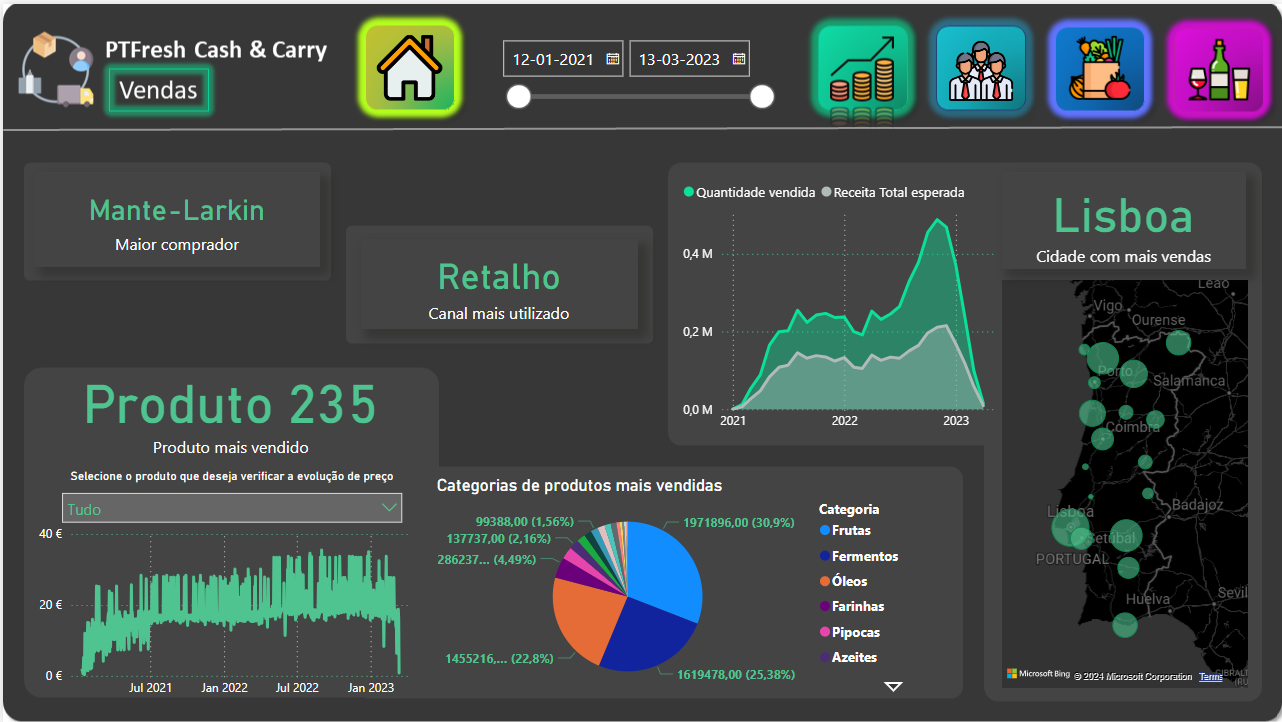

The page's visual inventory and layout, read from the dashboard file:
{"tool":"powerbi","page":{"name":"Vendas","canvas":[1280,720],"ordinal":1},"visuals":[{"type":"map","fields":{"Category":["Vendas.Cidade"],"Size":["Medidas.Quantidade vendida"]},"box":[994.1,271.4,256,417.9],"z":0},{"type":"card","fields":{"Values":["Medidas.Cidade com mais vendas"]},"box":[998.8,167.9,244,97.6],"z":1000},{"type":"slicer","fields":{"Values":["Datas_venda.Data Venda"]},"box":[488.1,13.1,292.9,102.4],"z":2000},{"type":"card","fields":{"Values":["Medidas.Produto mais vendido"]},"box":[59.5,351.2,335.7,106],"z":3000},{"type":"lineChart","fields":{"Category":["Datas_venda.Data Venda"],"Y":["Medidas.Evolucao de preco do produto"]},"box":[31,516.7,394,185.7],"z":4000},{"type":"card","fields":{"Values":["Medidas.Maior comprador"]},"box":[31,167.9,285.7,95.2],"z":5000},{"type":"card","fields":{"Values":["Medidas.Canal mais utilizado"]},"box":[357.1,234.5,277.4,90.5],"z":6000},{"type":"image","box":[365.5,26.2,83.3,75],"z":7000},{"type":"slicer","title":"Selecione o produto que deseja verificar a evolução de preço","fields":{"Values":["Vendas.Nome Produto"]},"box":[48.8,465.5,360.7,63.1],"z":8000},{"type":"pieChart","title":"Categorias de produtos mais vendidas","fields":{"Category":["Vendas.Categoria Produto"],"Y":["Medidas.Quantidade vendida"]},"box":[428.8,470.8,539.2,223.7],"z":9000},{"type":"areaChart","fields":{"Y":["Medidas.Total Vendas por Data Vencimento","Medidas.Valor Recebido por Data Vencimento"],"Category":["Datas.Data"]},"box":[667.9,167.9,323.8,267.9],"z":10000},{"type":"image","box":[941.7,29.8,73.8,73.8],"z":11000},{"type":"image","box":[1179.8,29.8,72.6,71.4],"z":12000},{"type":"image","box":[1060.1,25.8,74,75.7],"z":13000}]}

Visuals, with their boxes in screenshot pixels (x1, y1, x2, y2), scaled from the page's 1280x720 canvas onto the 1282x722 screenshot:
map - Vendas.Cidade x Medidas.Quantidade vendida: crop(996, 272, 1252, 691)
card - Medidas.Cidade com mais vendas: crop(1000, 168, 1245, 266)
slicer - Datas_venda.Data Venda: crop(489, 13, 782, 116)
card - Medidas.Produto mais vendido: crop(60, 352, 396, 458)
lineChart - Datas_venda.Data Venda x Medidas.Evolucao de preco do produto: crop(31, 518, 426, 704)
card - Medidas.Maior comprador: crop(31, 168, 317, 264)
card - Medidas.Canal mais utilizado: crop(358, 235, 635, 326)
image: crop(366, 26, 450, 101)
"Selecione o produto que deseja verificar a evolução de preço" slicer: crop(49, 467, 410, 530)
"Categorias de produtos mais vendidas" pieChart: crop(429, 472, 970, 696)
areaChart - Medidas.Total Vendas por Data Vencimento x Medidas.Valor Recebido por Data Vencimento: crop(669, 168, 993, 437)
image: crop(943, 30, 1017, 104)
image: crop(1182, 30, 1254, 101)
image: crop(1062, 26, 1136, 102)
